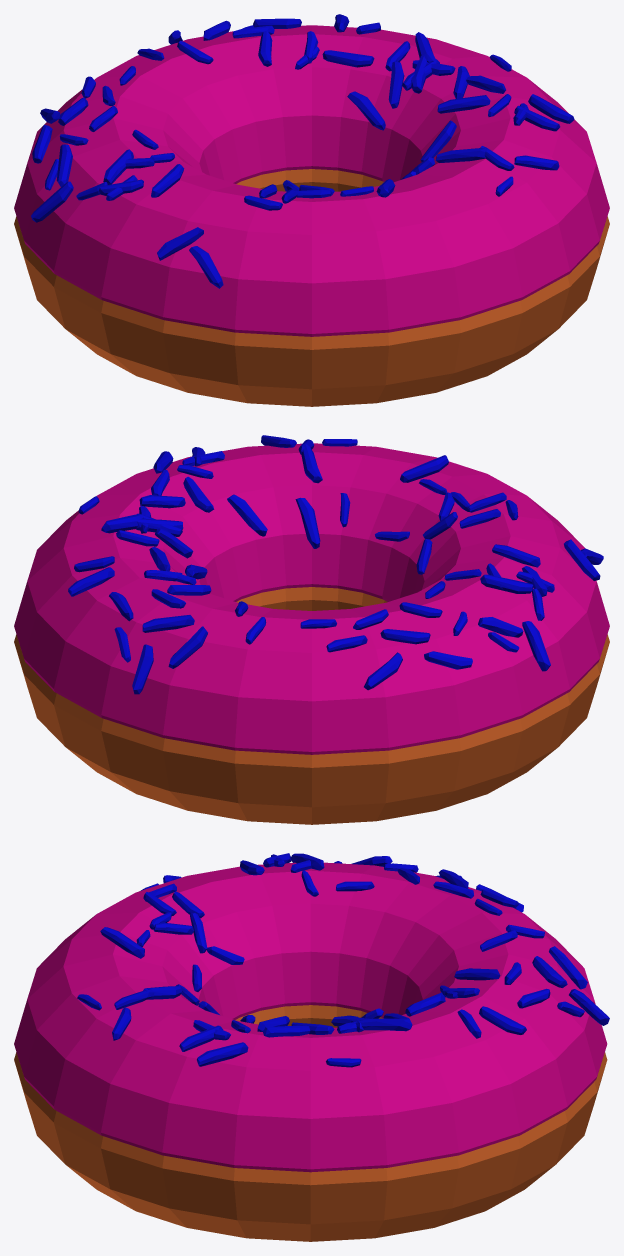
The model's file is donut.obj.
3 renders of one model, top to bottom at view 1: azimuth 30°, elevation 25°; view 2: azimuth 150°, elevation 25°; view 3: azimuth 270°, elevation 25°, orthographic.
Parts seen in each view (by area): view 1: Torus.001, Torus, Cube; view 2: Torus.001, Torus, Cube; view 3: Torus.001, Torus, Cube.
Boxes of the visible parts, x1,y1,x2,y2 form: Torus.001: (14,25,609,336); Torus: (14,169,609,406); Cube: (31,14,574,288); Torus.001: (14,443,609,754); Torus: (14,587,609,824); Cube: (68,435,603,694); Torus.001: (14,862,607,1172); Torus: (14,1005,607,1241); Cube: (77,853,609,1067).
Size of the model in its own units: 3.01 by 1.16 by 3.01.
